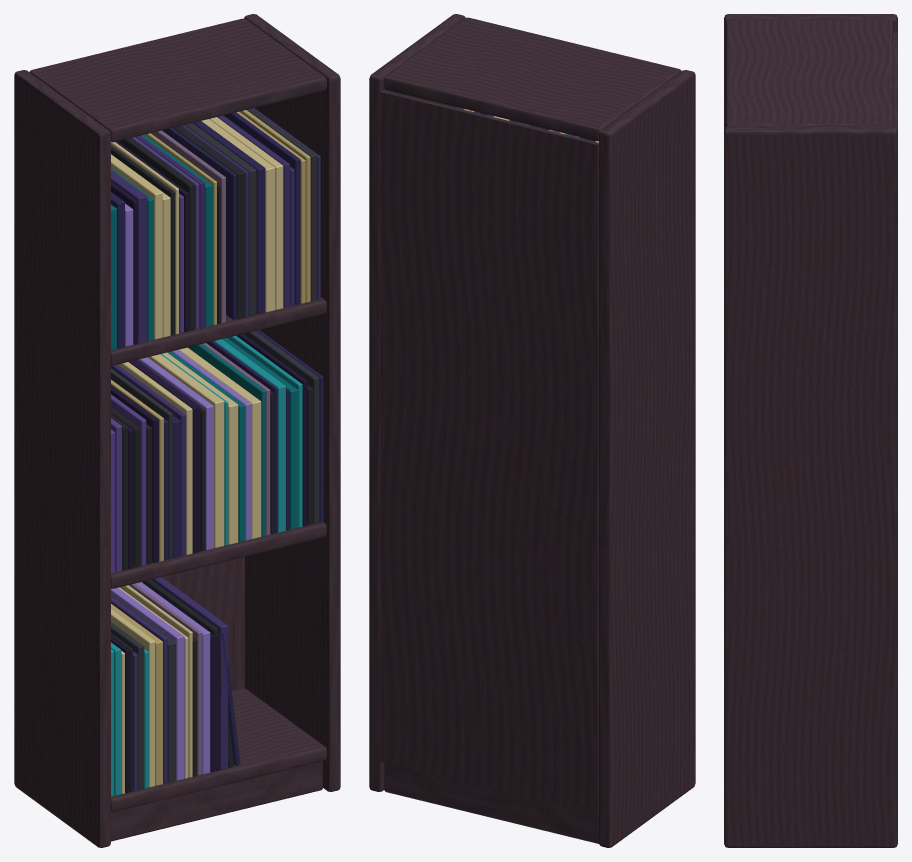
The model's file is shelf.glb.
3 views of the same model, side by side, from view 1: azimuth 30°, elevation 25°; view 2: azimuth 150°, elevation 25°; view 3: azimuth 270°, elevation 25° (orthographic).
Visible parts, largest first — view 1: frame, spines, spine_right, spine_left; view 2: frame; view 3: frame.
Boxes of the visible parts, left/top/right/bottom form: frame: left=14, top=14, right=340, bottom=847; spines: left=111, top=108, right=323, bottom=796; spine_right: left=162, top=128, right=236, bottom=320; spine_left: left=151, top=130, right=225, bottom=323; frame: left=369, top=14, right=695, bottom=847; frame: left=724, top=14, right=897, bottom=847.
Size of the model in its own units: 0.5499 by 1.55 by 0.34.
2 materials, 2 textured.
